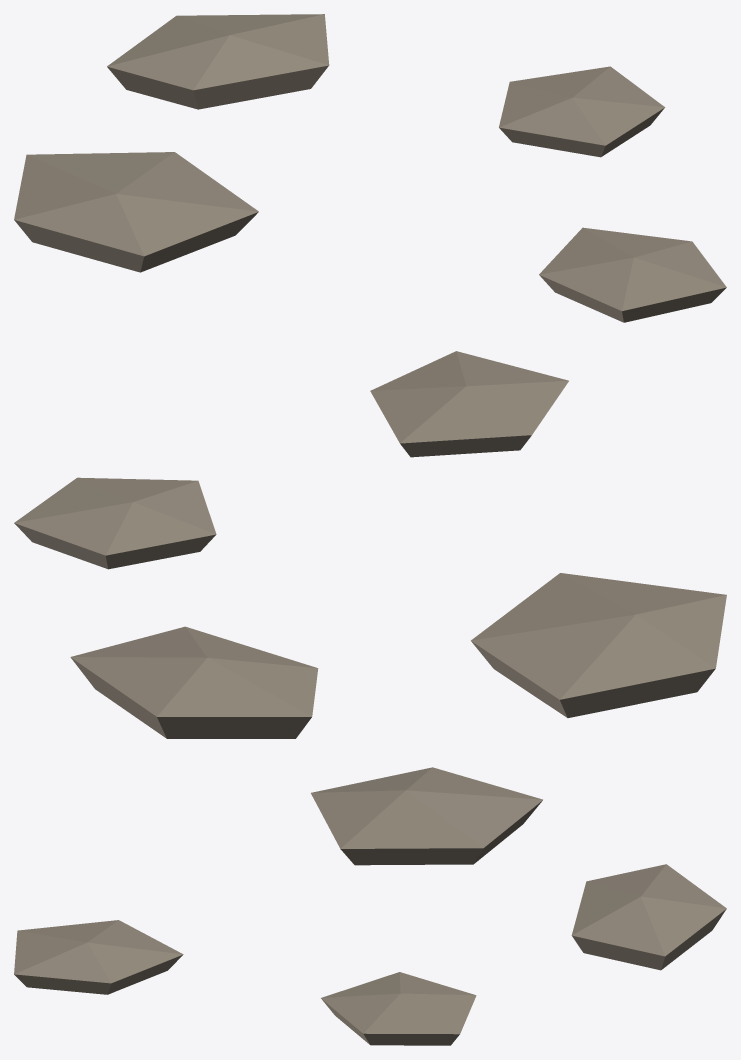
The model's file is detail_003b_warm_pebbles.glb.
3 renders of one model, top to bottom at view 1: azimuth 30°, elevation 25°; view 2: azimuth 150°, elevation 25°; view 3: azimuth 270°, elevation 25°, orthographic. The views are drawn at different scales.
Parts seen in each view (by area): view 1: detail_003b_warm_pebbles__mesh; view 2: detail_003b_warm_pebbles__mesh; view 3: detail_003b_warm_pebbles__mesh.
Part boxes in pixels (x1,y1,x2,y2): detail_003b_warm_pebbles__mesh: (14,14,726,322); detail_003b_warm_pebbles__mesh: (14,351,726,738); detail_003b_warm_pebbles__mesh: (14,767,726,1045).
Bounding box in the file's own units: 0.1629 × 0.0107 × 0.1885.
